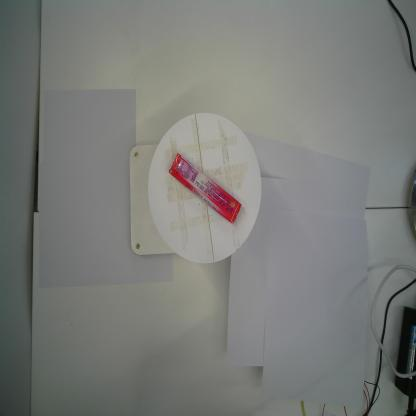Candy: (168, 152, 243, 224)
